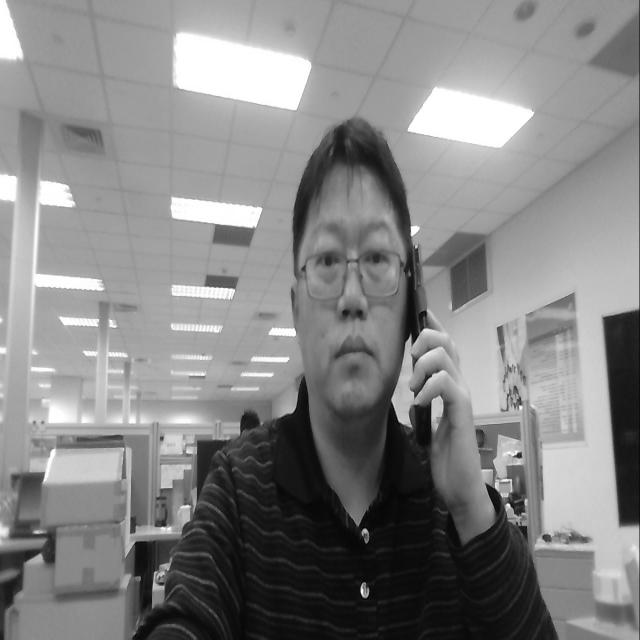phone: (394, 219, 460, 463)
